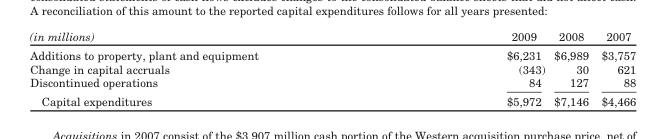table: (29, 28, 635, 107)
table column: (29, 28, 381, 107), (381, 28, 548, 107), (548, 28, 594, 107), (594, 28, 635, 107)
table column header: (29, 28, 635, 45)
table row: (29, 28, 635, 45), (29, 45, 635, 61), (29, 75, 635, 91), (29, 91, 635, 107), (29, 61, 635, 75)
